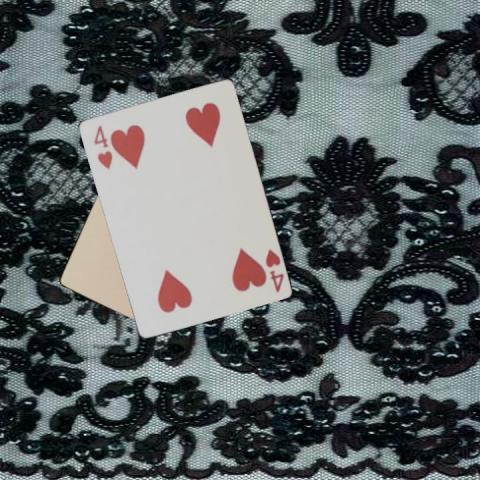4h: (262, 245, 285, 294), (90, 122, 112, 171)
